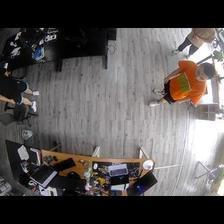normal: (149, 59, 212, 107), (1, 72, 43, 115)
